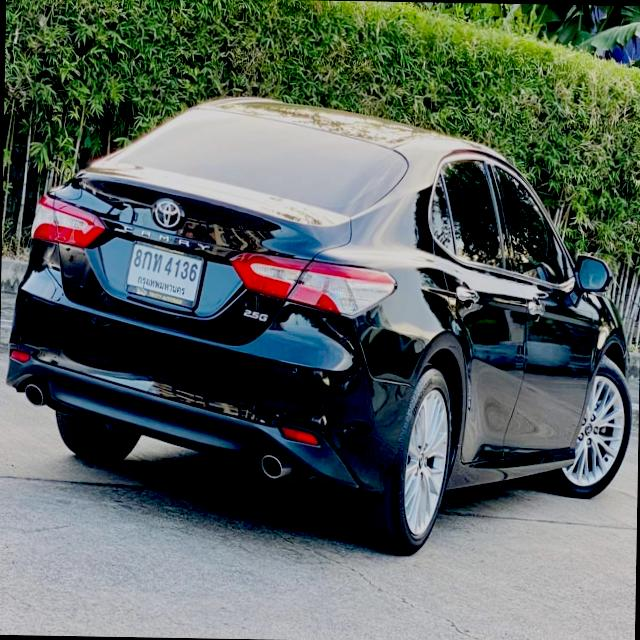license_plate: (124, 240, 207, 315)
